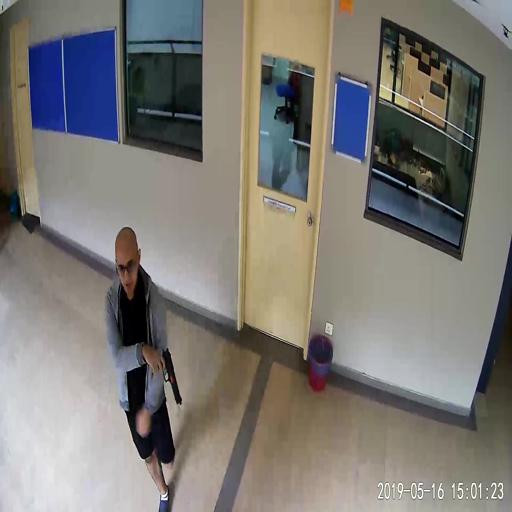pistol: (153, 347, 180, 403)
